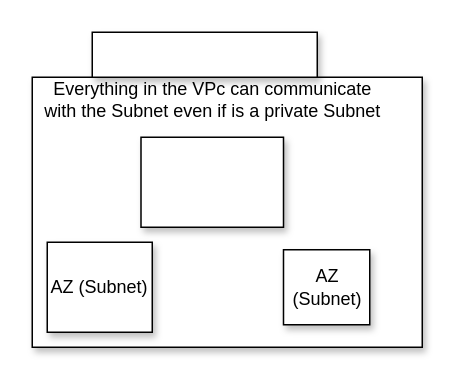
This 458x384 diagram has some shape labels left out. The centre of each missing label's shape, as x and y in pixels:
Az (Subnet) Subnet is a set of IP addresses.: [213,184]
Virtual Private Cloud(Region): [205,56]
